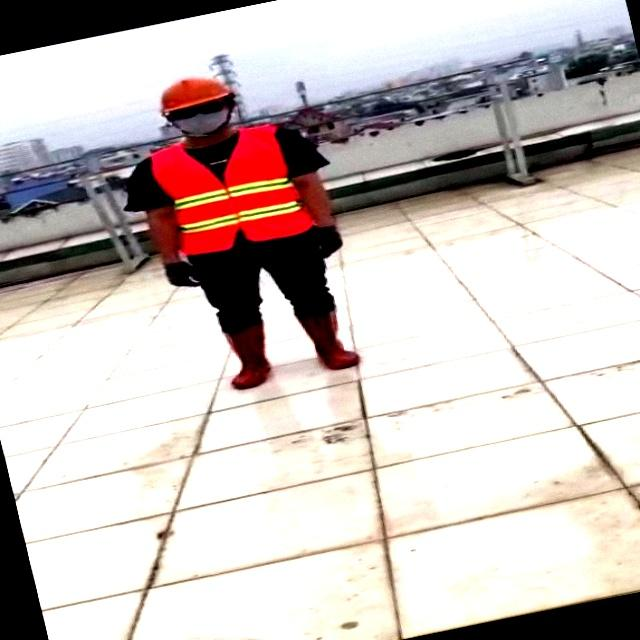Capacete: (161, 78, 232, 115)
Colete: (151, 125, 313, 255)
Oculos: (166, 100, 226, 121)
